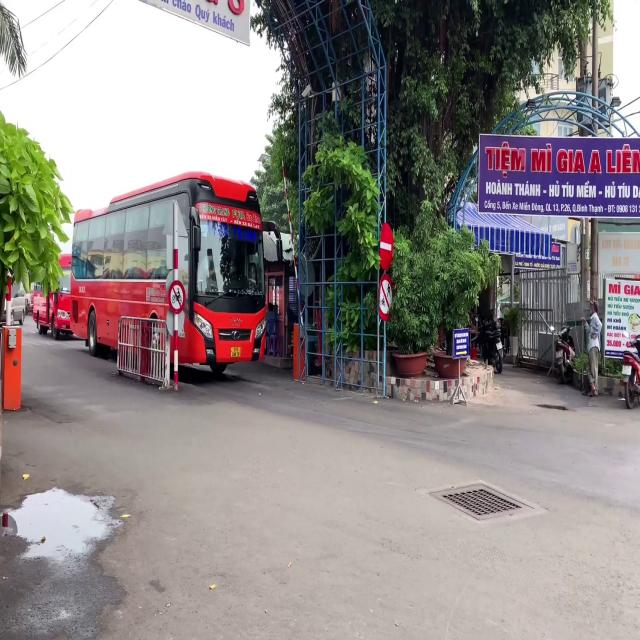bien_vang: (230, 348, 241, 357)
